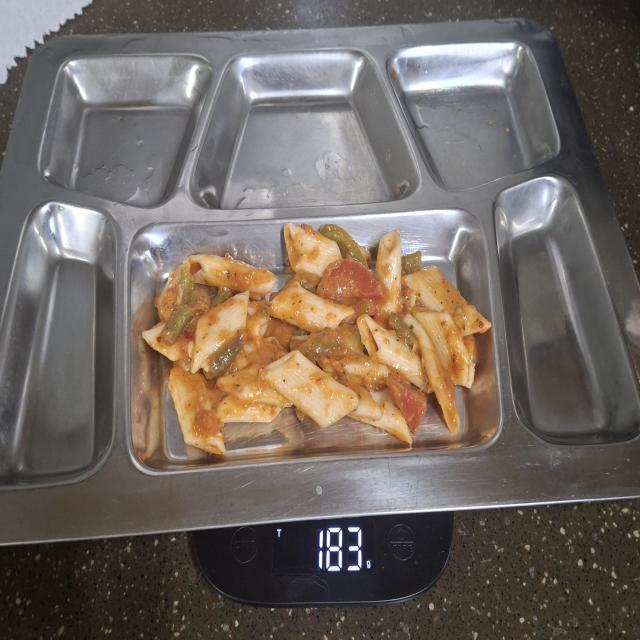Pasta: (139, 227, 491, 452)
